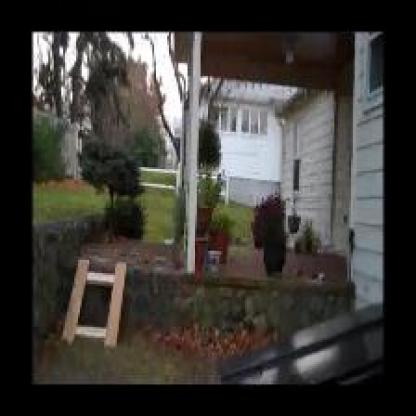other: (162, 313, 268, 348), (197, 196, 226, 268), (251, 186, 280, 244)
